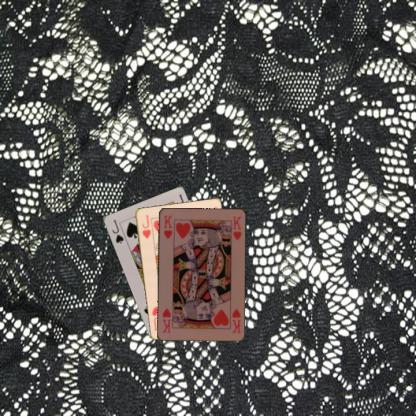Jh: (139, 212, 152, 239)
Js: (109, 218, 125, 245)
Kh: (161, 212, 173, 240), (230, 306, 242, 334)
